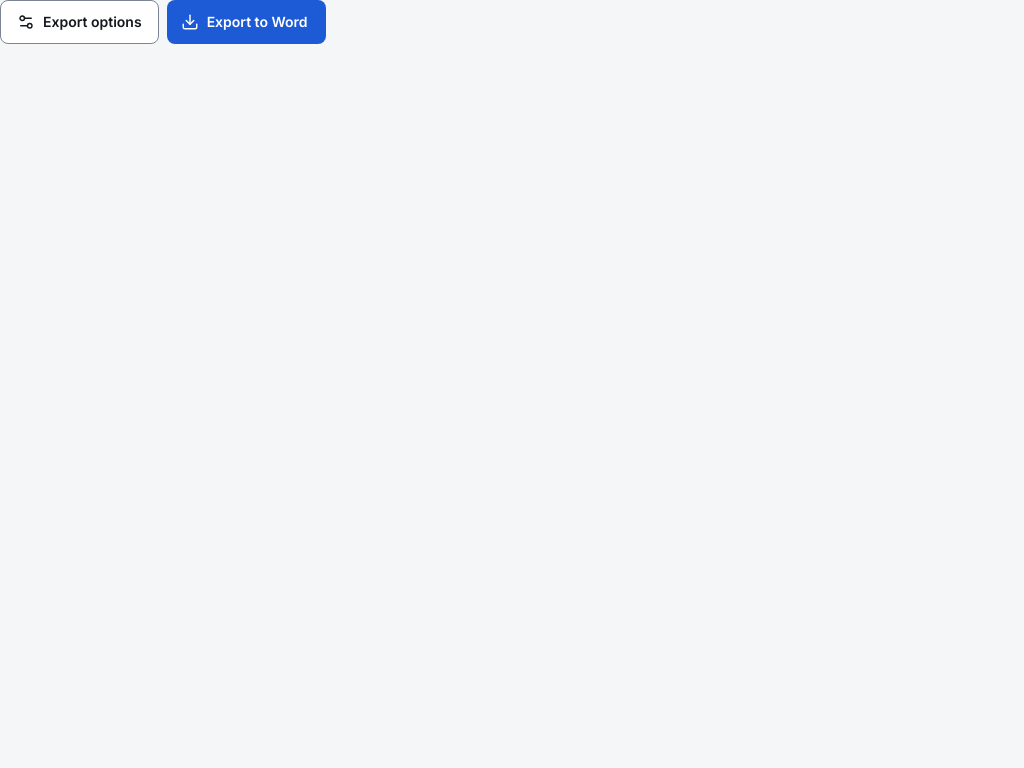
ExportOptions › marks a loaded preset as modified after edits; saving the same name (any case) updates it
Later steps or results of the test are not shown.
Click the button "Export options": (79, 22) [0,0,159,44]
(page scrolled)
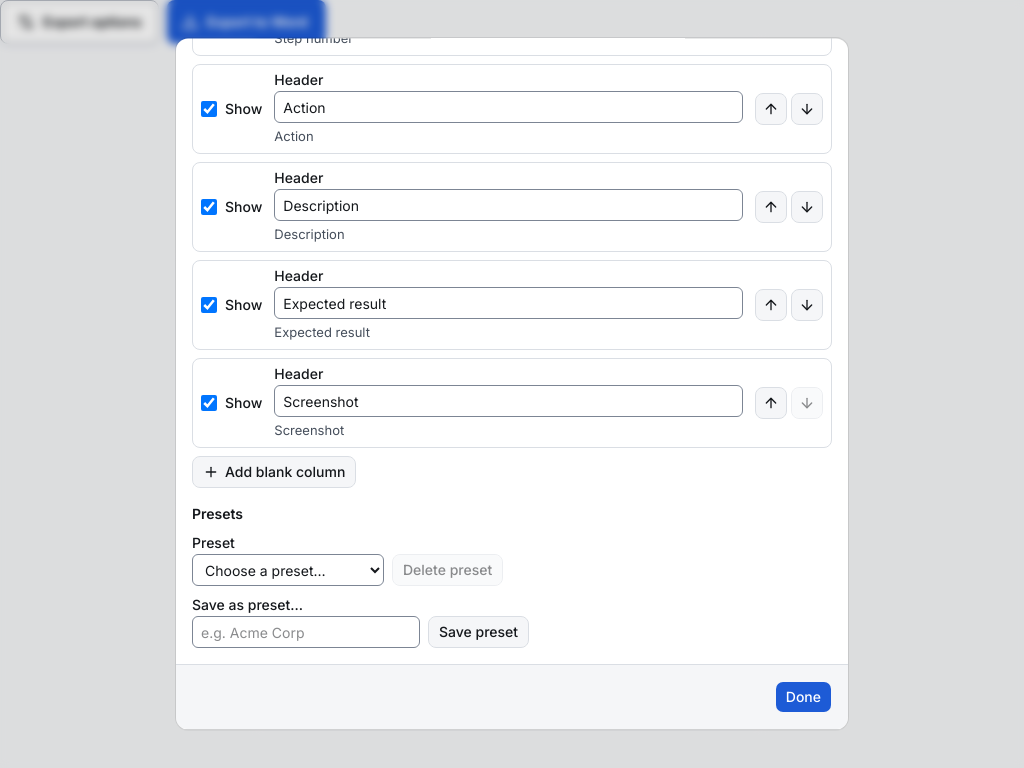
In the field labelled "Save as preset…": (306, 632) [192,616,420,648], type "Acme Corp"
Then press Enter
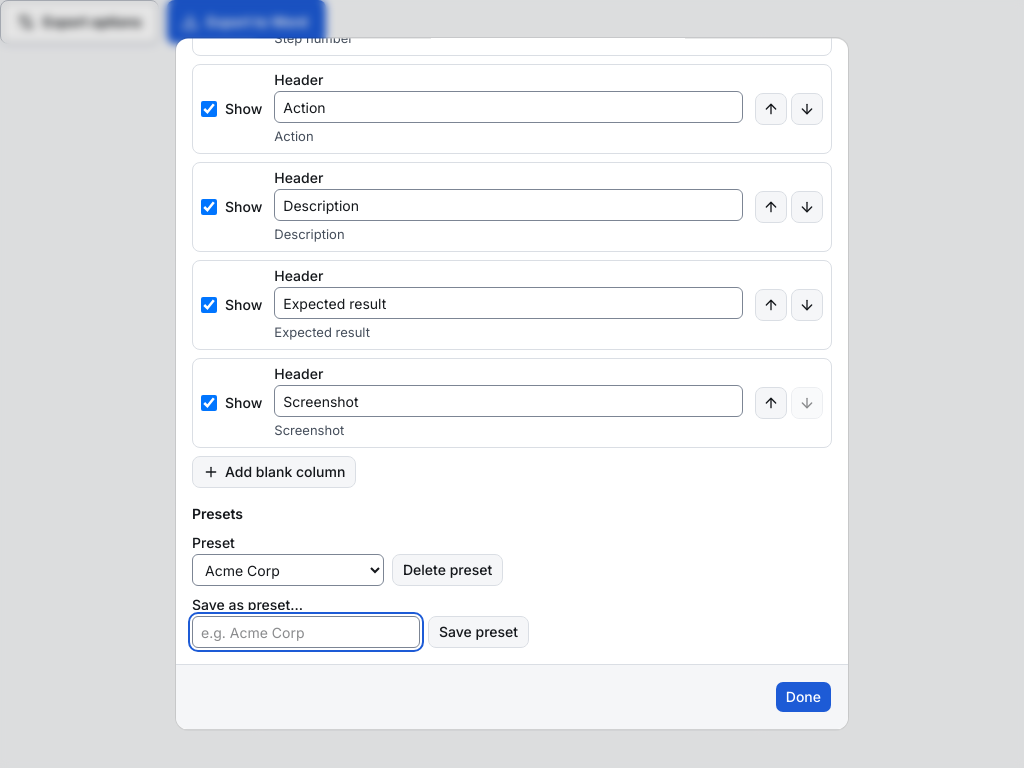
In the field named "Header for Description column": (509, 205) [274,189,743,221], type " (detail)"
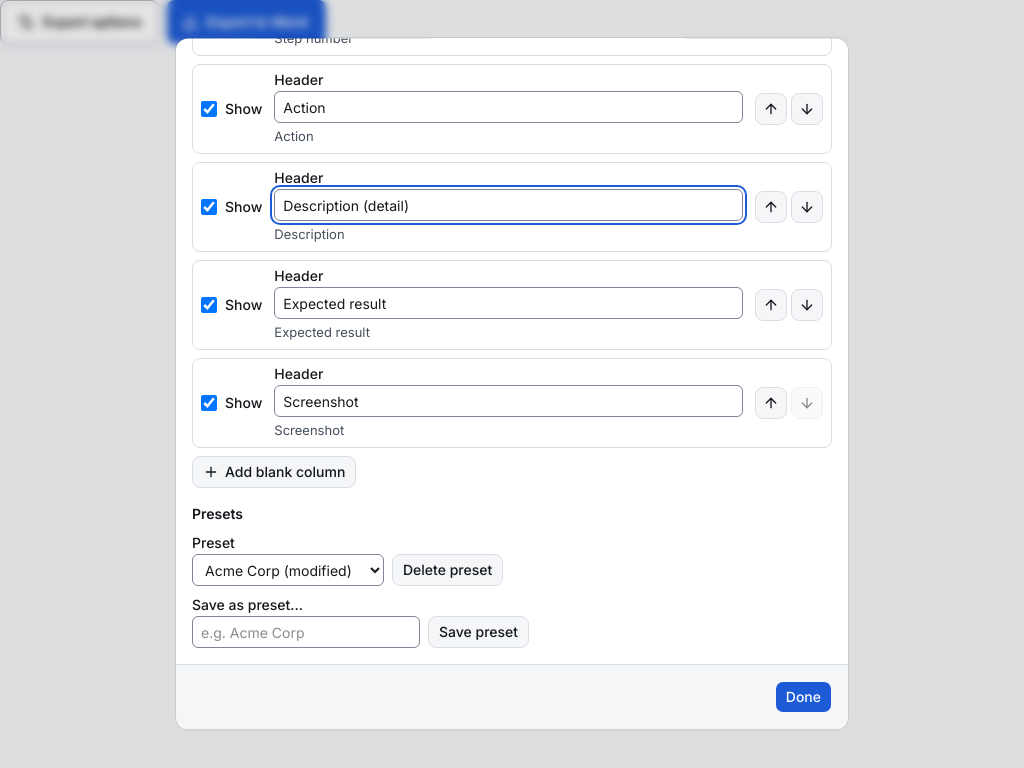
Expected: the button named "Delete preset Acme Corp" does not have attribute aria-disabled, [392,554,503,586]
